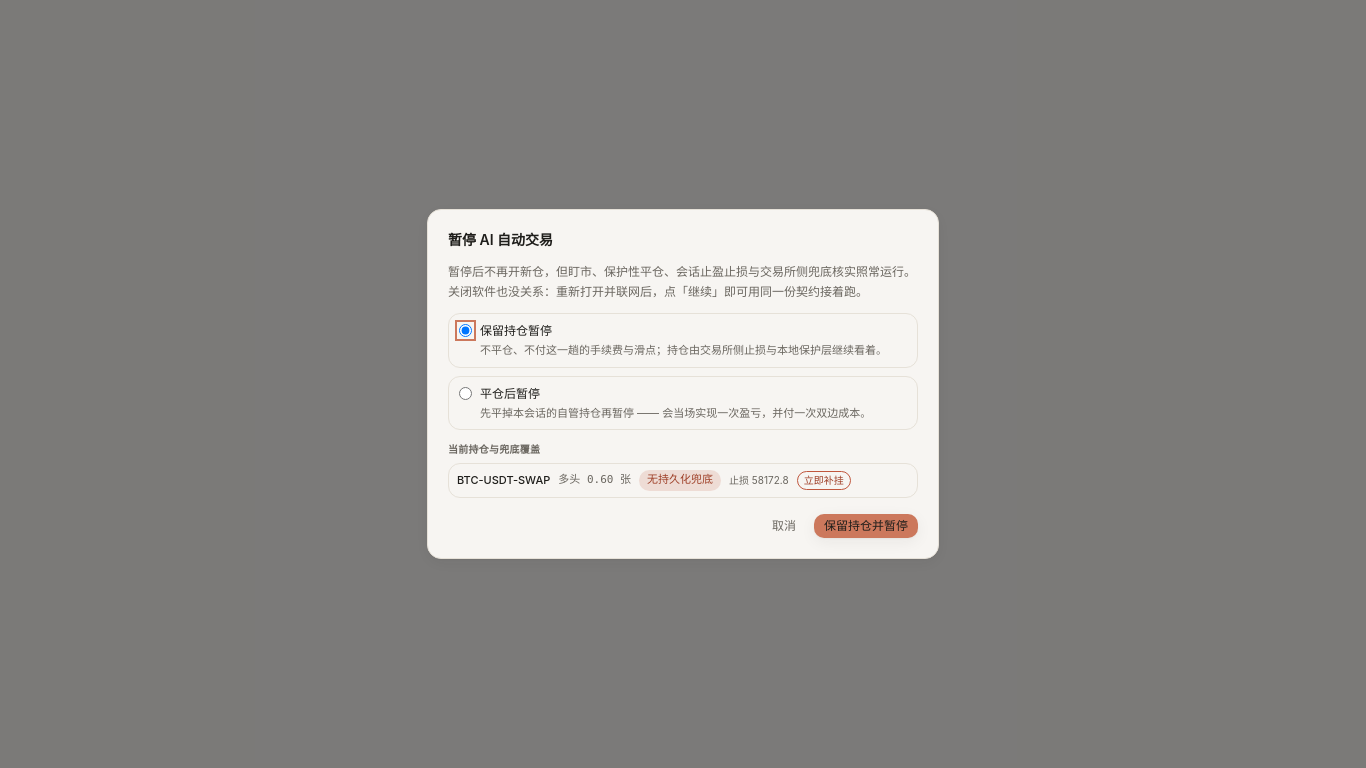
Scenario: AiTradePauseDialog › 带仓且兜底未覆盖 ⇒ 风险前置：红条 + 「立即补挂」直连既有端点
Check: the element with test id "ai-trade-pause-positions" is shown, box 448,442 -> 918,498
Check: the text "无持久化兜底" is shown, box 639,470 -> 721,491
Click the button "立即补挂": x=824, y=480 797,471 -> 851,490
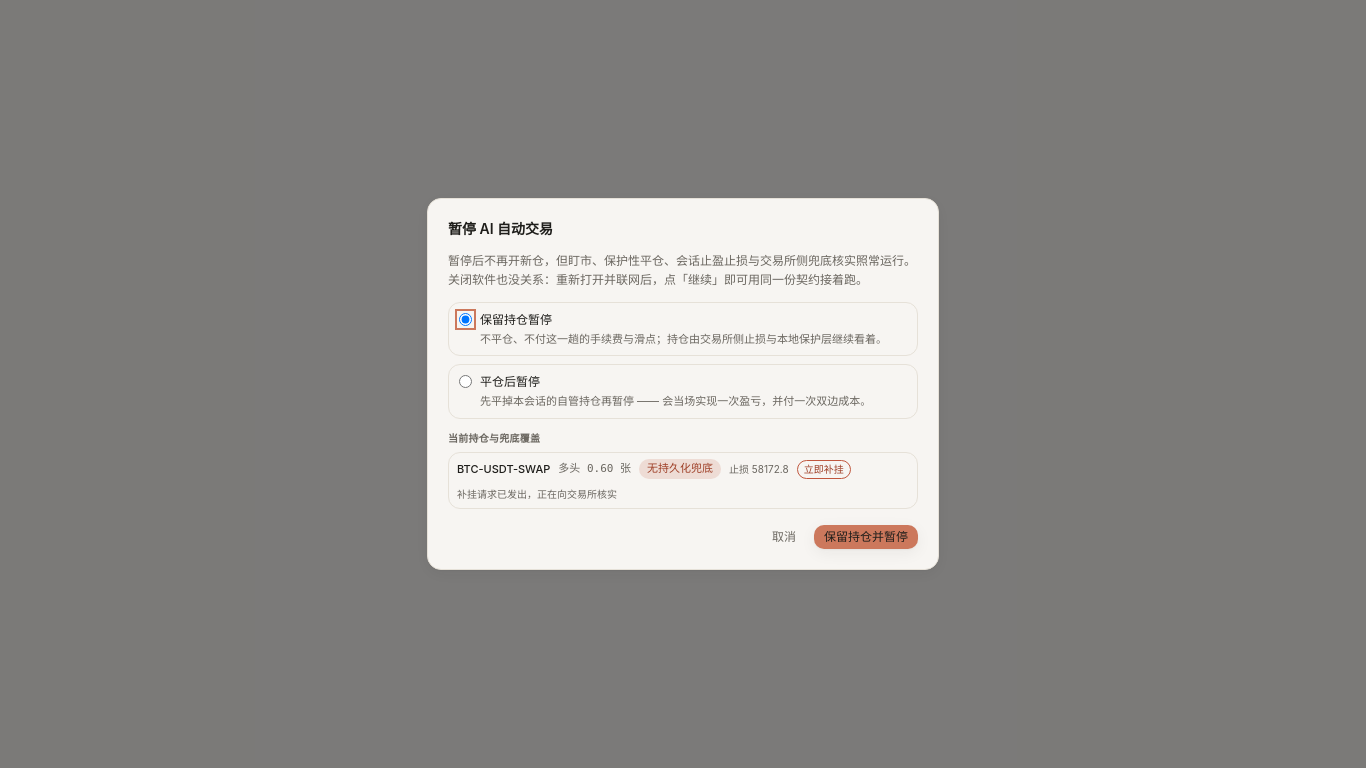
Check: the text "补挂请求已发出，正在向交易所核实" is shown, box 457,487 -> 617,502
